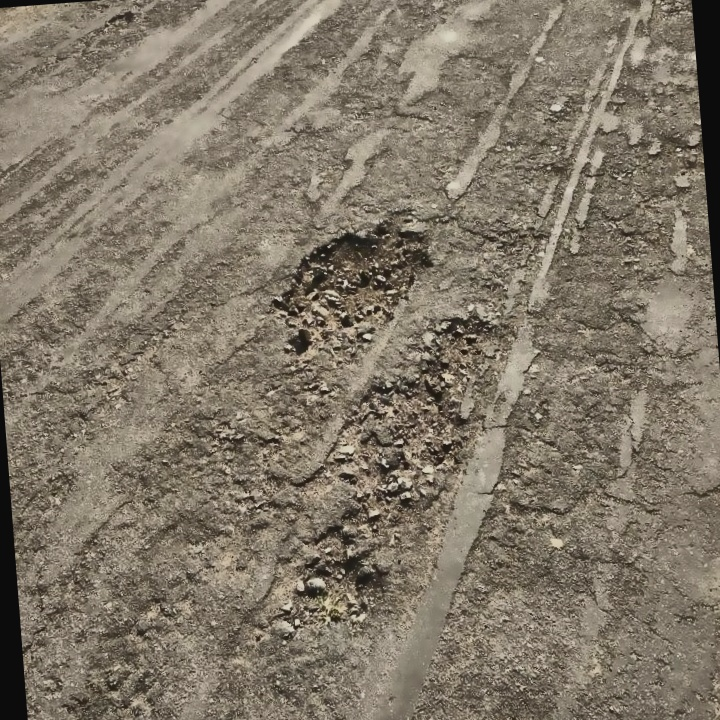pothole: (261, 312, 520, 633), (264, 203, 441, 366)
